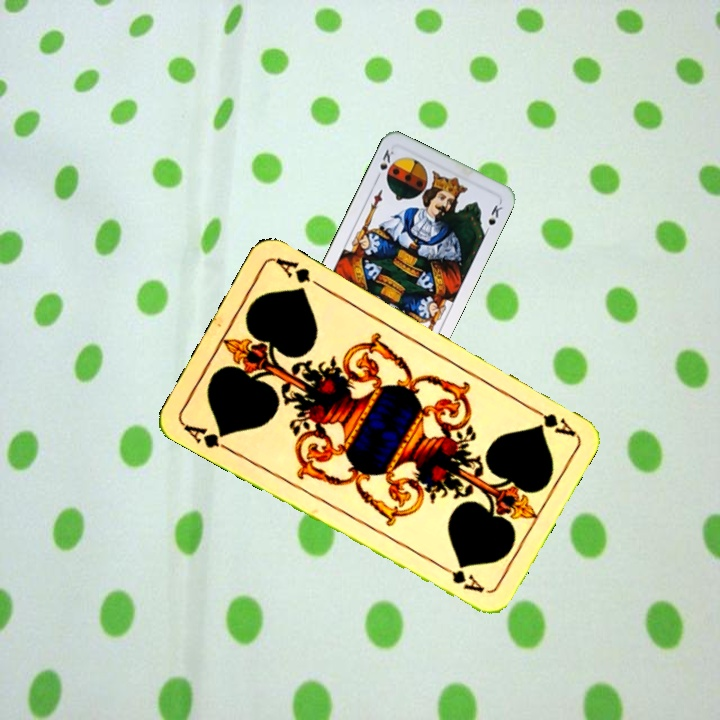GA: (523, 401, 577, 439), (179, 419, 234, 455)
SK: (372, 145, 397, 183)
